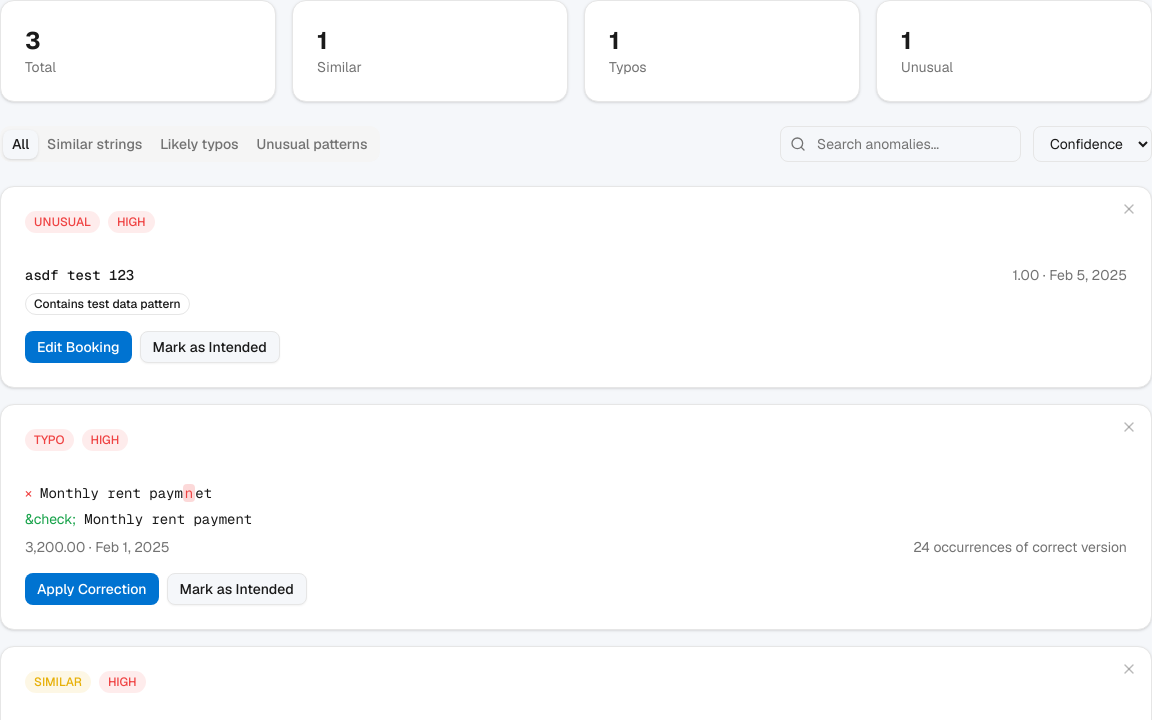
Test: AnomalyList › shows empty state when search matches nothing
In the field with placeholder "Search anomalies...": (900, 144) [780, 126, 1021, 162], type "zzzznoexist"
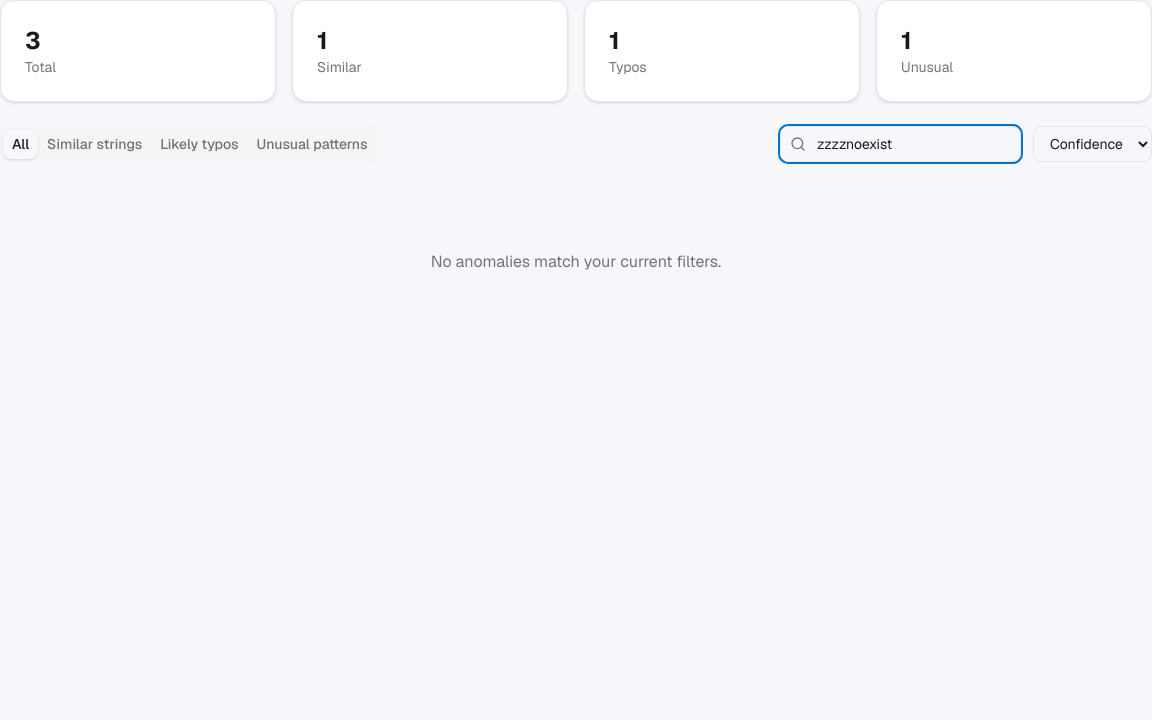
Result: the text "No anomalies match your current filters." is shown at [431, 250, 721, 274]
